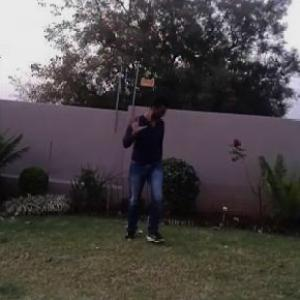follow_hand: (122, 108, 148, 136)
